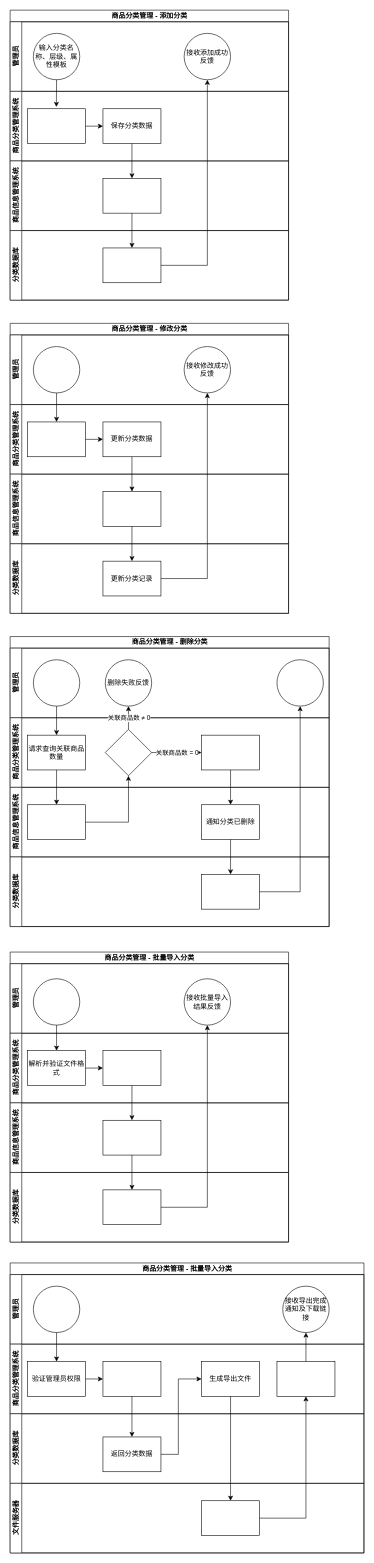
The diagram is 374 pixels wide and 1563 high, and some of its shapes have lost their labels. Here are the shapes that lost their labels. From the top down, the centre of each, then its label:
[56,126]: 验证层级有效性
[131,195]: 同步新增分类属性模板
[131,265]: 存储分类记录
[56,369]: 提交分类ID以及修改内容
[56,439]: 验证修改后的层级有效性
[131,508]: 同步修改后的属性模板
[56,682]: 提交分类ID
[299,682]: 删除成功反馈
[128,752]: 根据商品数量进行判断
[230,752]: 删除分类
[56,822]: 返回关联商品数量
[230,891]: 标记分类为删除状态
[56,1001]: 上传分类数据文件
[131,1067]: 批量写入数据库
[131,1137]: 同步新增分类
[131,1207]: 存储批量分类记录
[56,1309]: 发送批量导出请求
[131,1378]: 发送查询请求
[305,1378]: 生成下载链接或文件路径
[230,1518]: 保存文件
